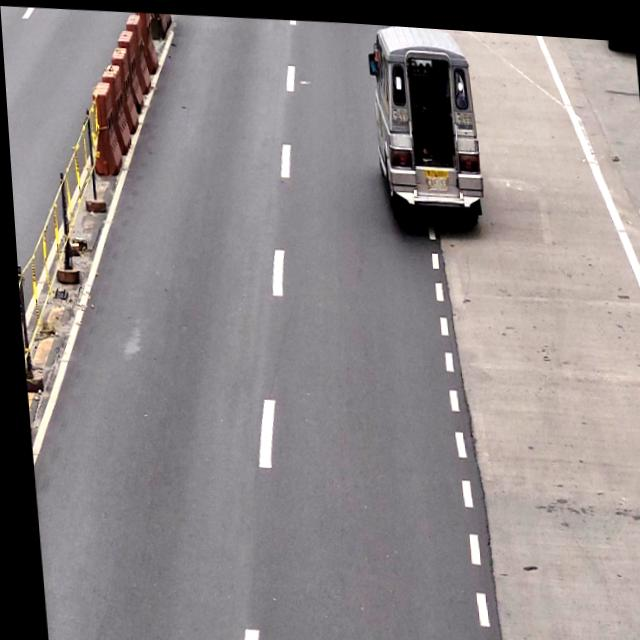Jeep: (368, 25, 478, 218)
License-Plate: (421, 162, 449, 187)
